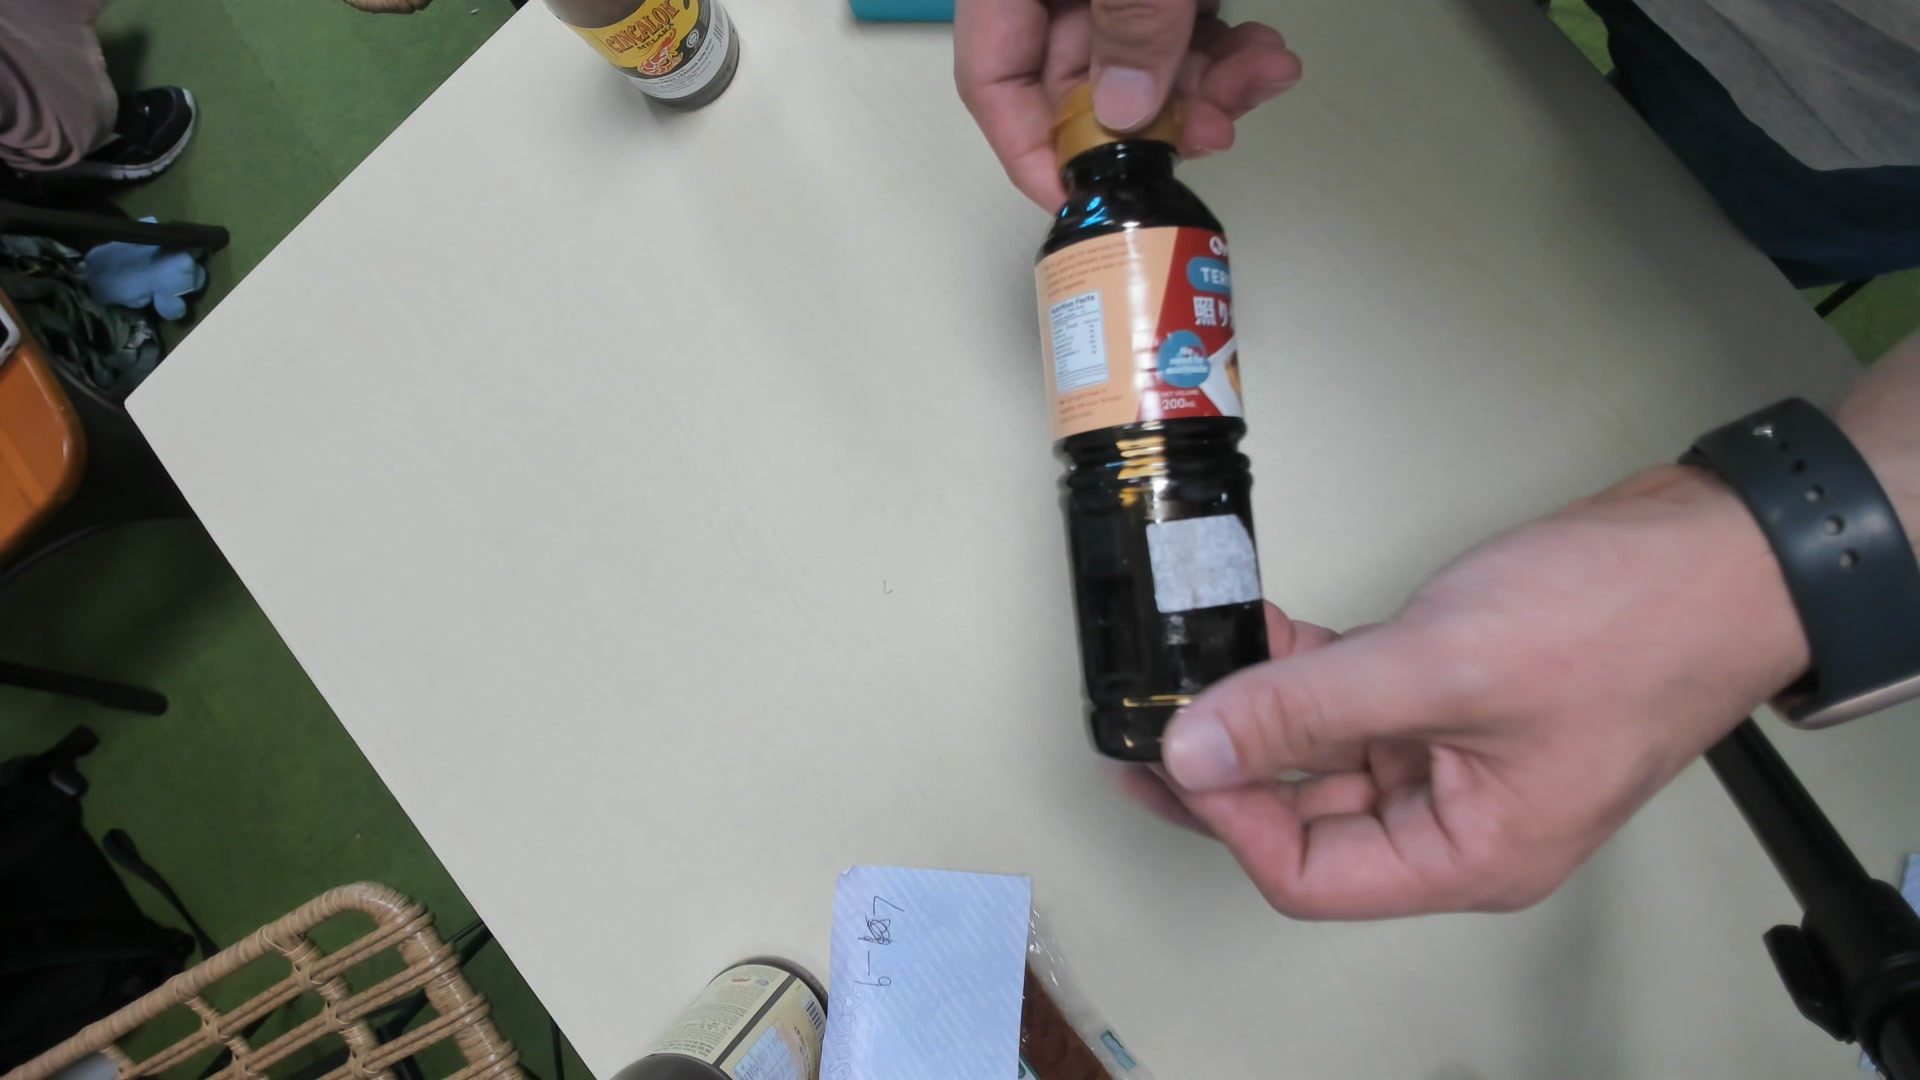OtherSauceDressingSoupbasePaste_200-299g_Halal_NonHealthy: (1027, 75, 1276, 762)
